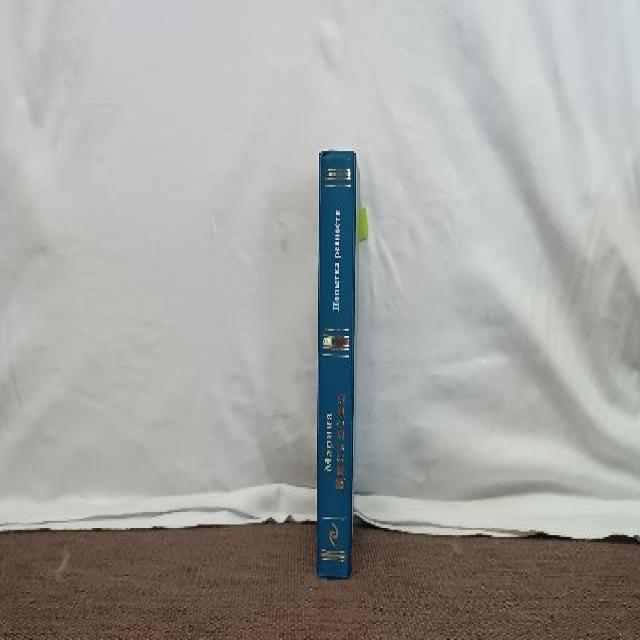book: (318, 152, 355, 577)
